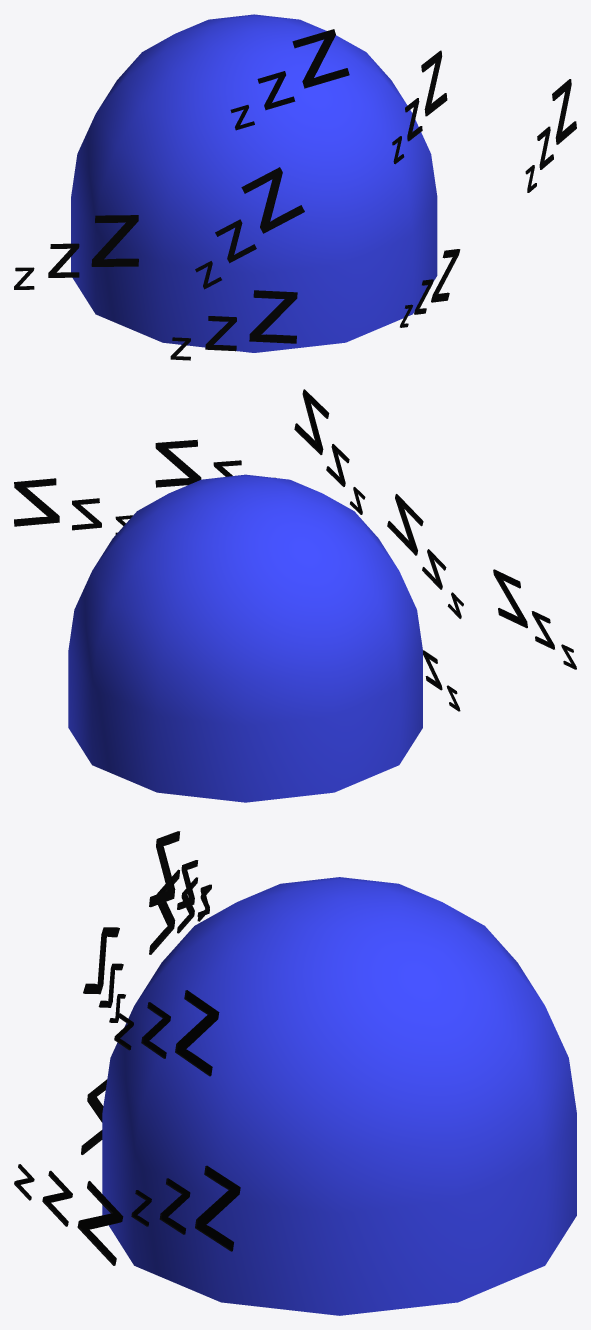
File: EscudoWalldaLucia.FBX
3 renders of one model, top to bottom at view 1: azimuth 30°, elevation 25°; view 2: azimuth 150°, elevation 25°; view 3: azimuth 270°, elevation 25°, orthographic. The views are drawn at different scales.
Parts seen in each view (by area): view 1: Escudo, Letras; view 2: Escudo, Letras; view 3: Escudo, Letras.
Boxes of the visible parts, x1,y1,x2,y2 form: Escudo: (71, 14, 437, 352); Letras: (14, 29, 576, 360); Escudo: (68, 474, 422, 802); Letras: (14, 389, 576, 711); Escudo: (102, 877, 576, 1315); Letras: (14, 831, 240, 1265).
Bounding box in the file's own units: 15.34 × 10.1 × 7.57.
